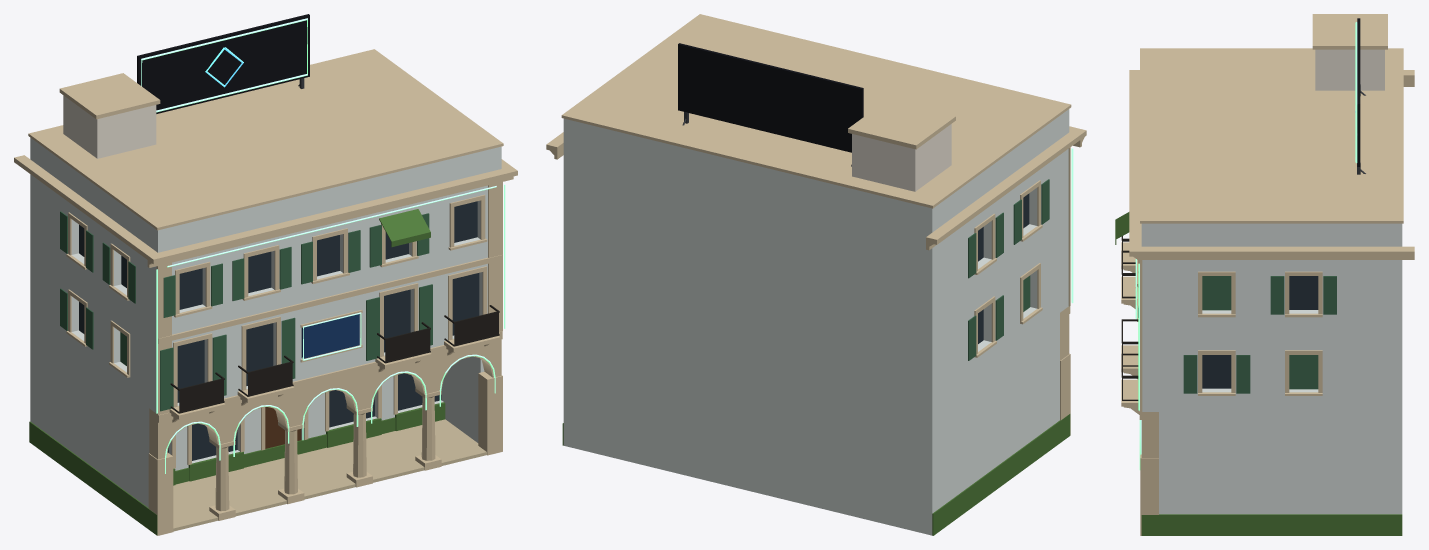
3 renders of one model, left to right at view 1: azimuth 30°, elevation 25°; view 2: azimuth 150°, elevation 25°; view 3: azimuth 270°, elevation 25°, orthographic. The views are drawn at different scales.
Visible parts, largest first — view 1: sandbox.lod1; view 2: sandbox.lod1; view 3: sandbox.lod1.
Part boxes in pixels (x1,y1,x2,y2): sandbox.lod1: [14, 14, 517, 535]; sandbox.lod1: [546, 14, 1086, 535]; sandbox.lod1: [1115, 14, 1414, 535].
Bounding box in the file's own units: 14.84 × 14.8 × 10.32.
